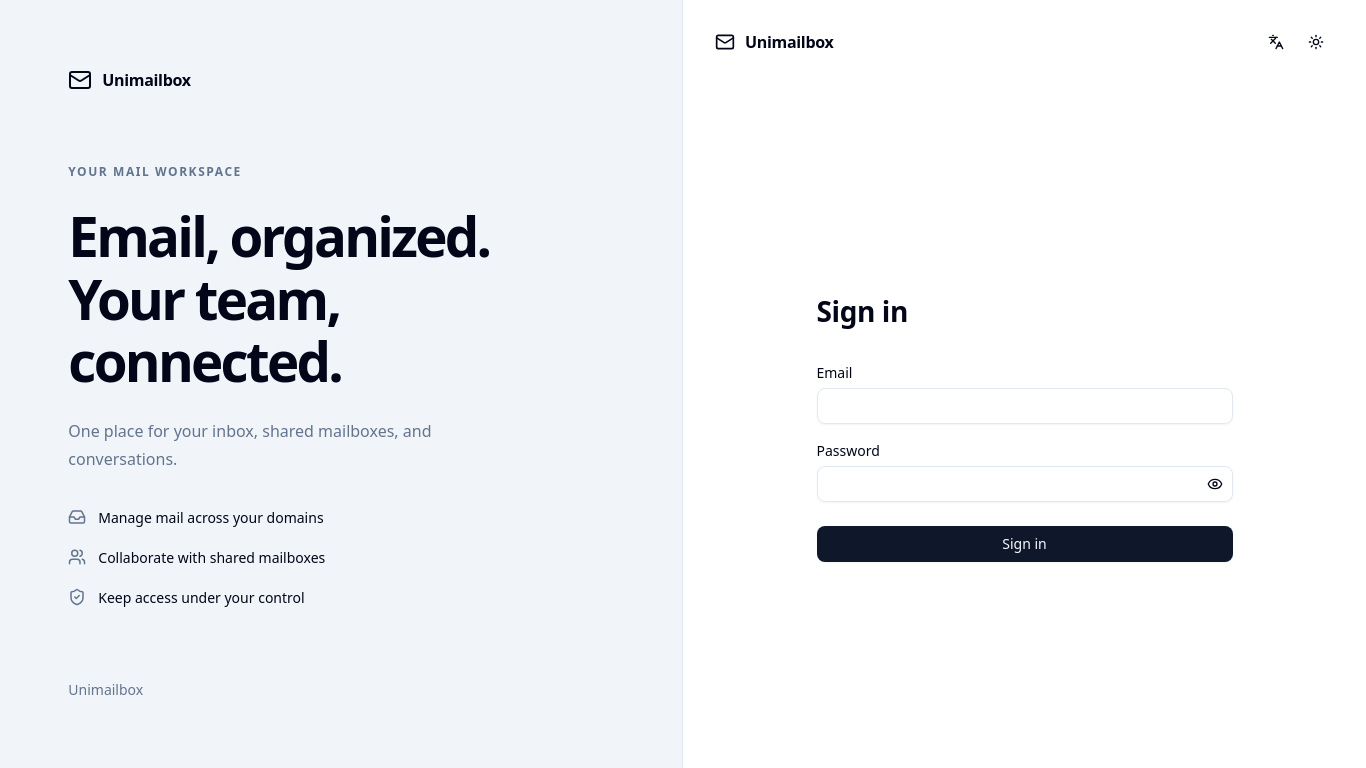
Scenario: LoginPage › surfaces the machine code on 4xx (R-API-002)
The width and height of the screenshot is (1366, 768).
Type "user@b.test" into the field labelled "Email" at (1024,406), box [816,388,1232,424]
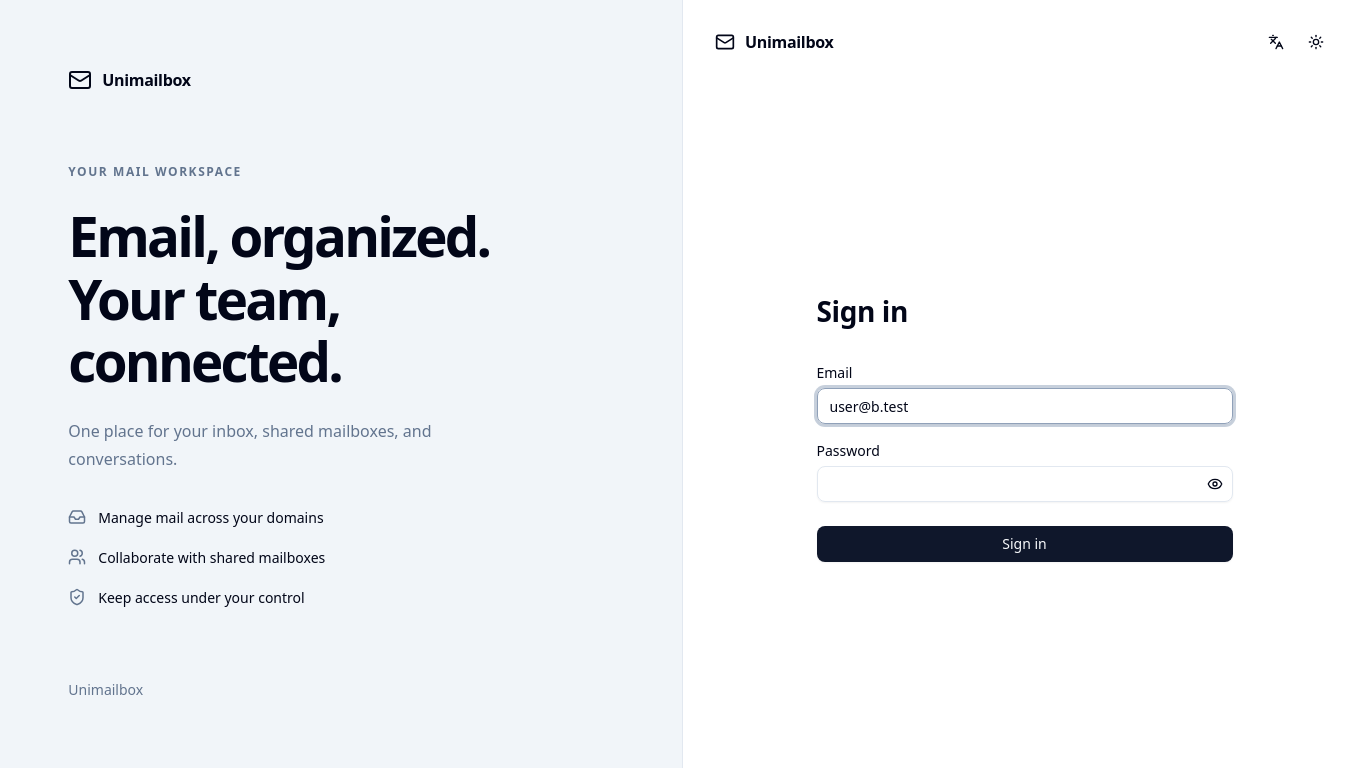
Type "secret123" into the password field labelled "Password" at (1024,484), box [816,466,1232,502]
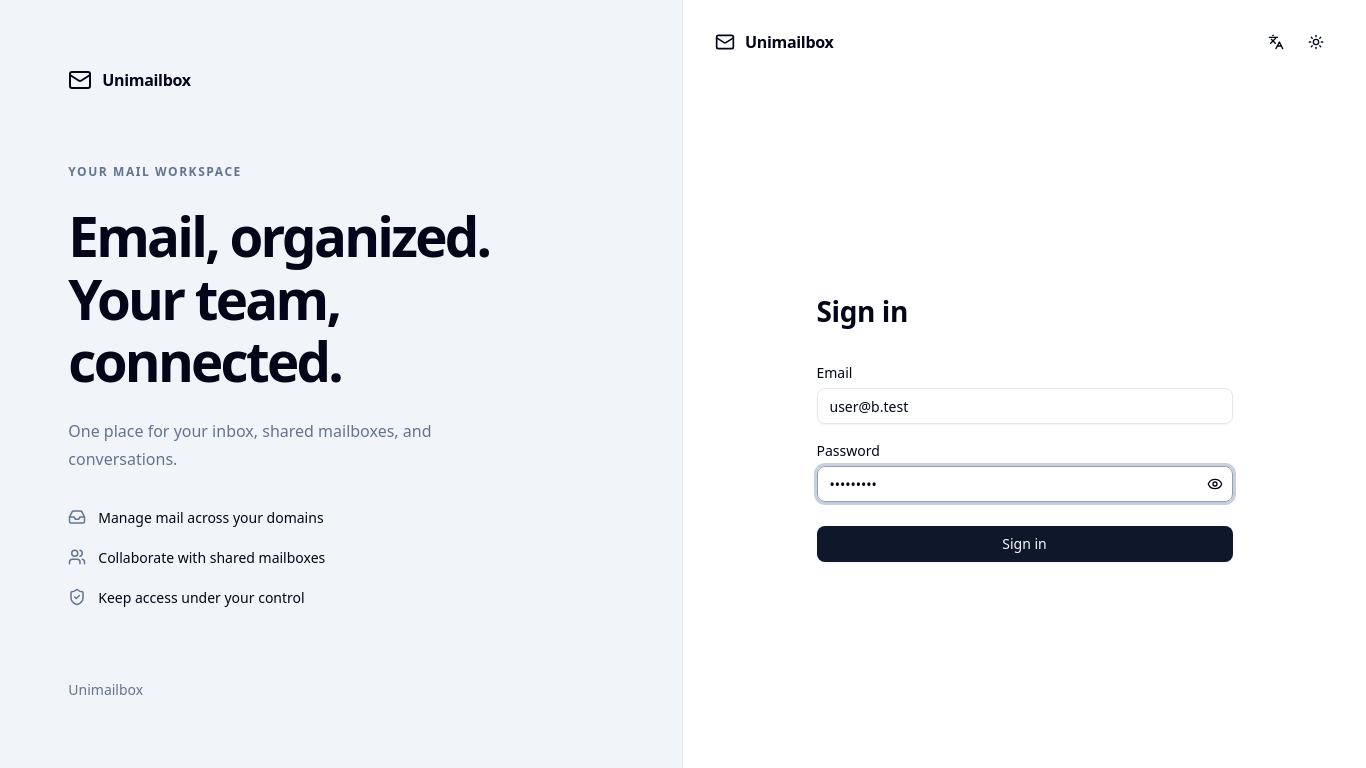
Click the button with test id "login-submit" at (1024,544), box [816,526,1232,562]
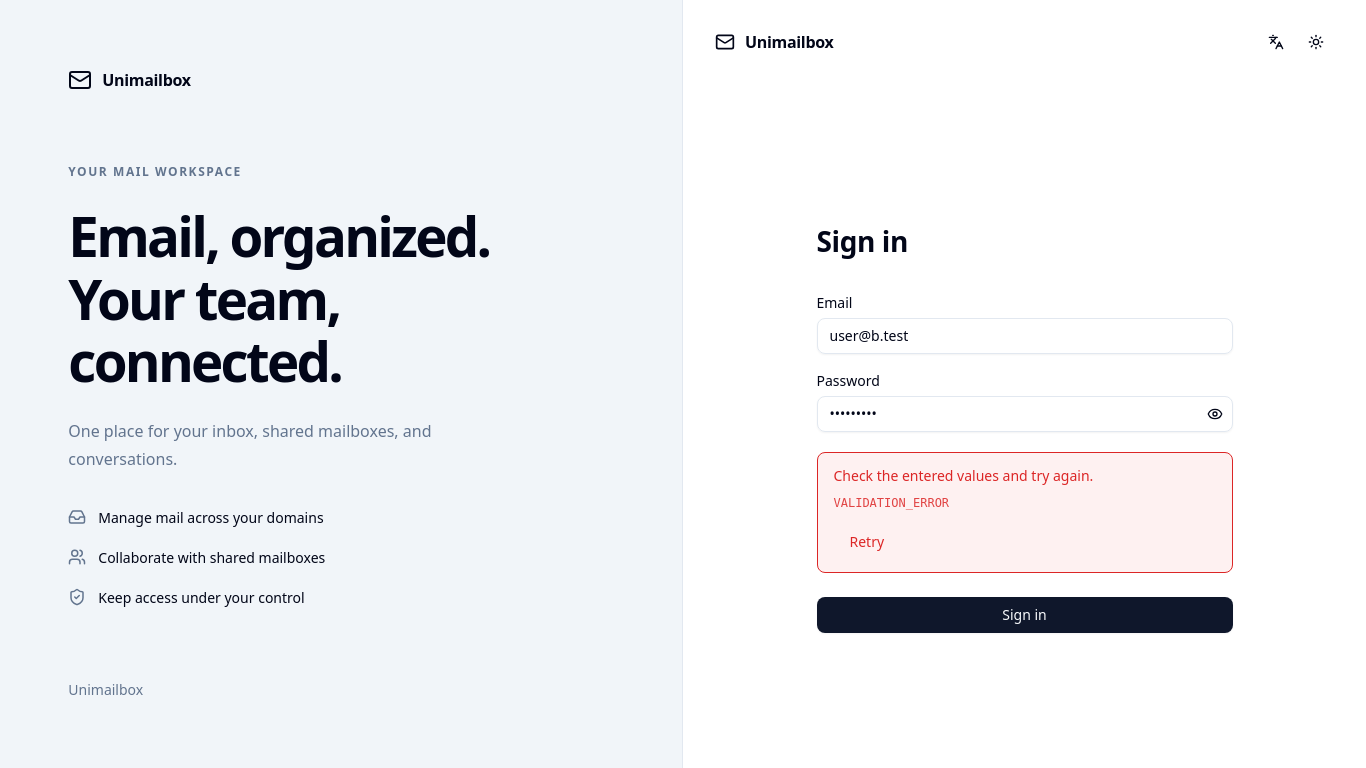
Check: the text with test id "error-code" reads "VALIDATION_ERROR", box [834,496,949,510]
